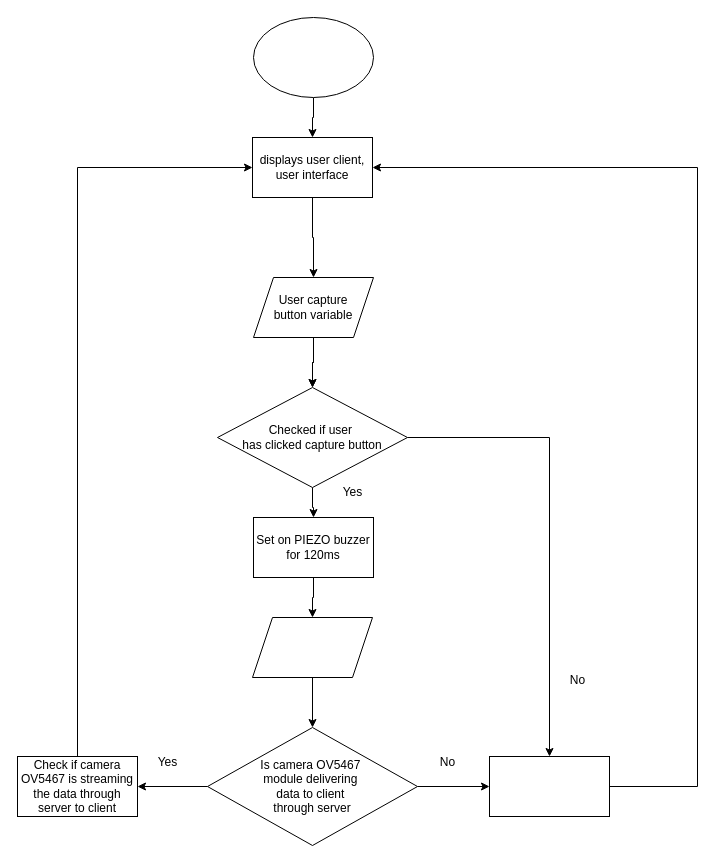
This 723x863 diagram has some shape labels left out. Each missing label, with the centre of its shape:
"camera input feed" goes at point (312, 647).
"send black screen to client" goes at point (549, 786).
"Start" goes at point (313, 57).
